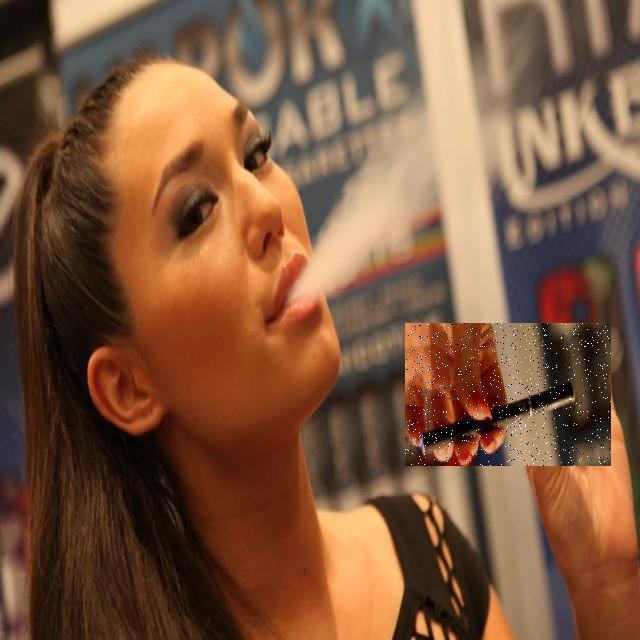smoking: (405, 323, 611, 466)
